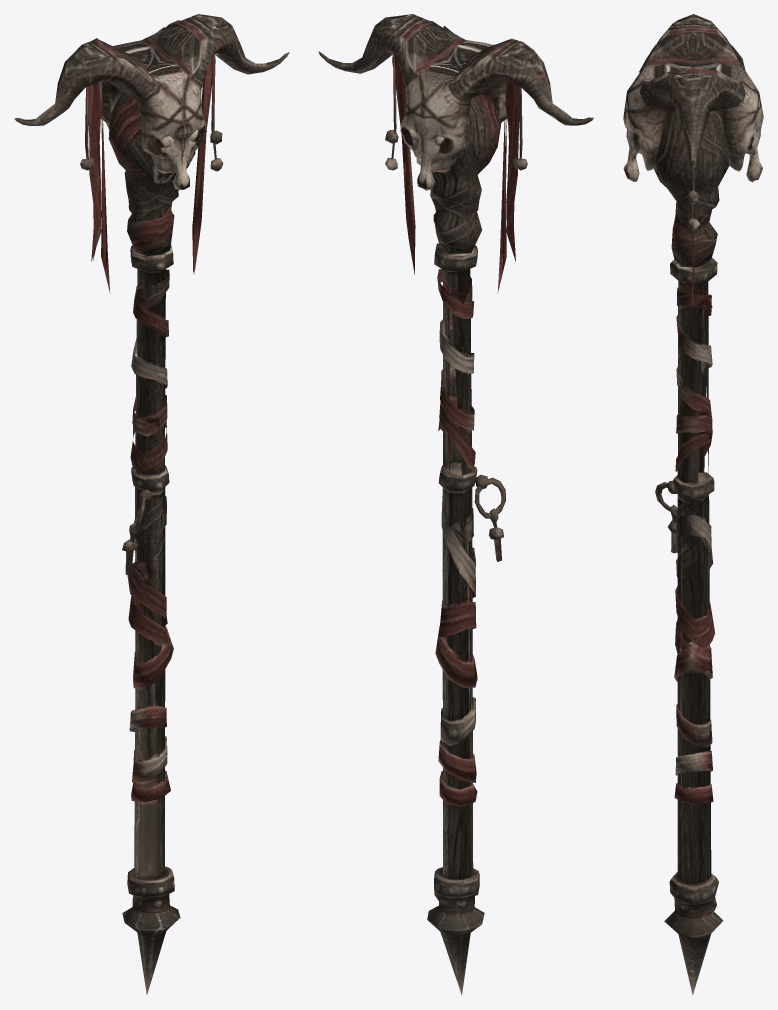
Rendered from skeleton_staff.glb.
3 renders of one model, left to right at view 1: azimuth 30°, elevation 25°; view 2: azimuth 150°, elevation 25°; view 3: azimuth 270°, elevation 25°, orthographic.
Parts seen in each view (by area): view 1: skeleton_staff; view 2: skeleton_staff; view 3: skeleton_staff.
Part boxes in pixels (x1=…): skeleton_staff: x1=14, y1=14, x2=289, y2=994; skeleton_staff: x1=318, y1=14, x2=593, y2=995; skeleton_staff: x1=623, y1=14, x2=763, y2=995.
Size of the model in its own units: 0.6325 by 2.1 by 0.282.
1 material, 1 textured.
